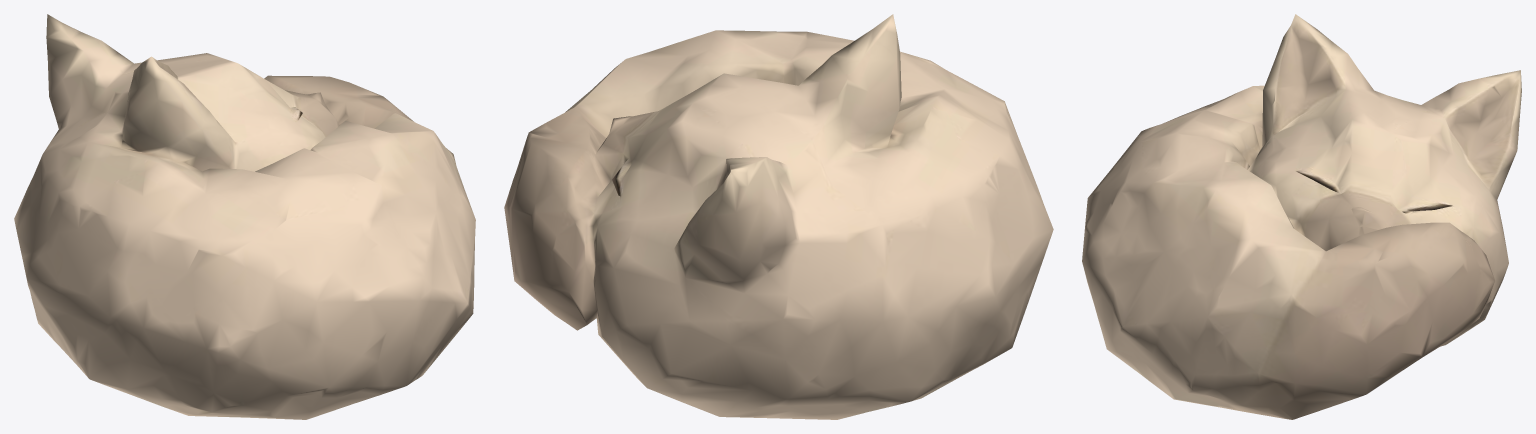
The model's file is cat-sleep.glb.
The picture shows the model from 3 angles, left to right: view 1: azimuth 30°, elevation 25°; view 2: azimuth 150°, elevation 25°; view 3: azimuth 270°, elevation 25°; orthographic projection. The views are drawn at different scales.
Parts seen in each view (by area): view 1: tripo_node_8c04a748-a38c-4c15-b7c3-656142dc8273; view 2: tripo_node_8c04a748-a38c-4c15-b7c3-656142dc8273; view 3: tripo_node_8c04a748-a38c-4c15-b7c3-656142dc8273.
Boxes of the visible parts, box(x1,y1,x2,y2) form: tripo_node_8c04a748-a38c-4c15-b7c3-656142dc8273: box(14, 14, 475, 419); tripo_node_8c04a748-a38c-4c15-b7c3-656142dc8273: box(504, 14, 1053, 419); tripo_node_8c04a748-a38c-4c15-b7c3-656142dc8273: box(1082, 14, 1521, 419).
Size of the model in its own units: 0.999 by 0.7411 by 1.
Materials: 1 (1 with a texture image).
